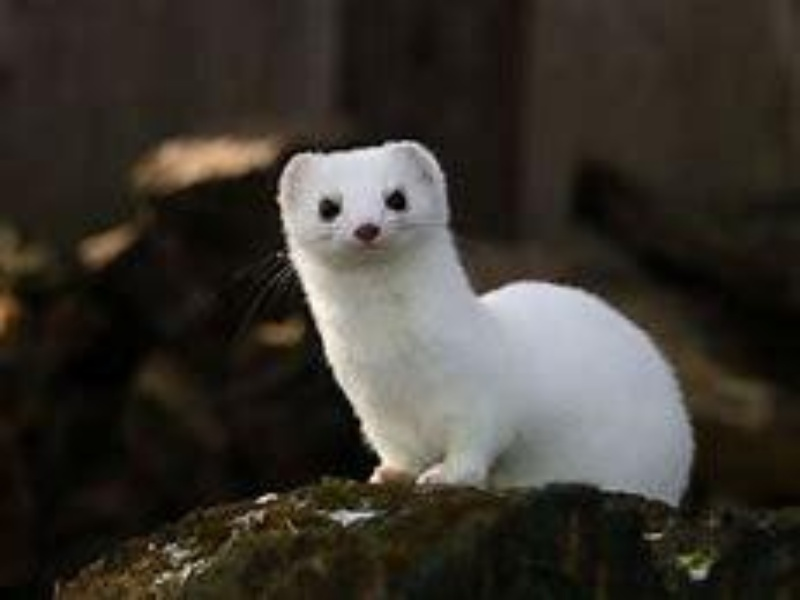minkish: (271, 139, 697, 509)
